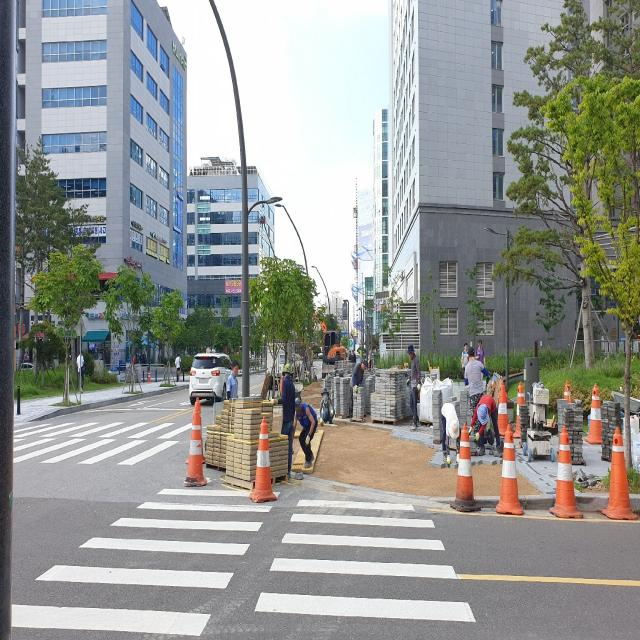횡단보도: (9, 473, 478, 640), (0, 400, 207, 470)
